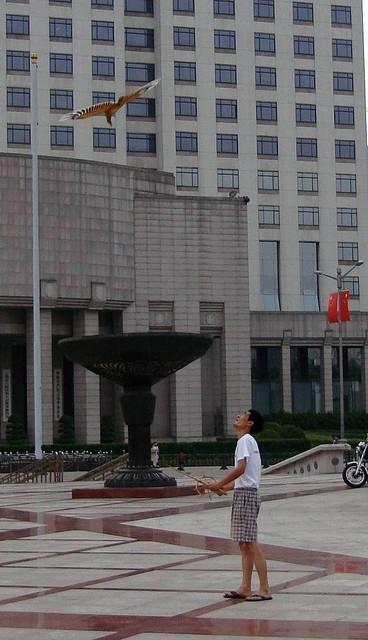motorcycle: (343, 442, 368, 488)
